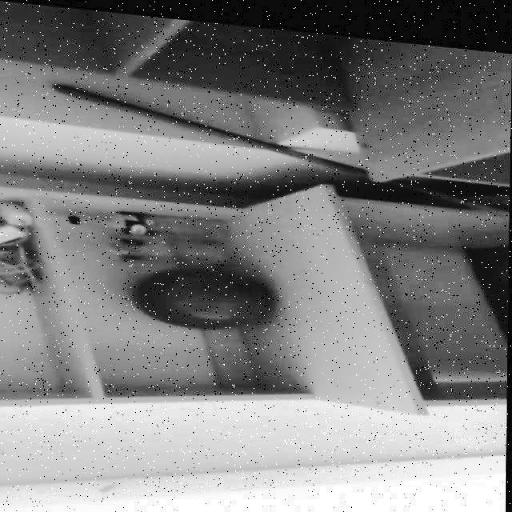balloon: (120, 251, 283, 337)
